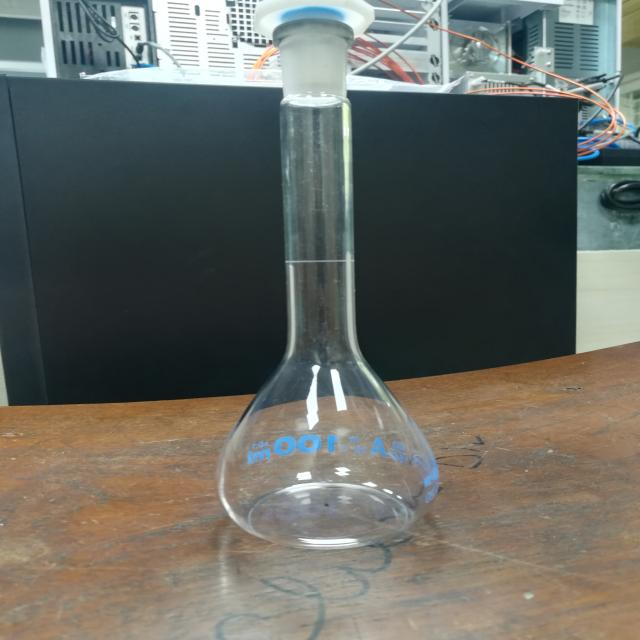Volumetric_Flask: (177, 0, 497, 577)
